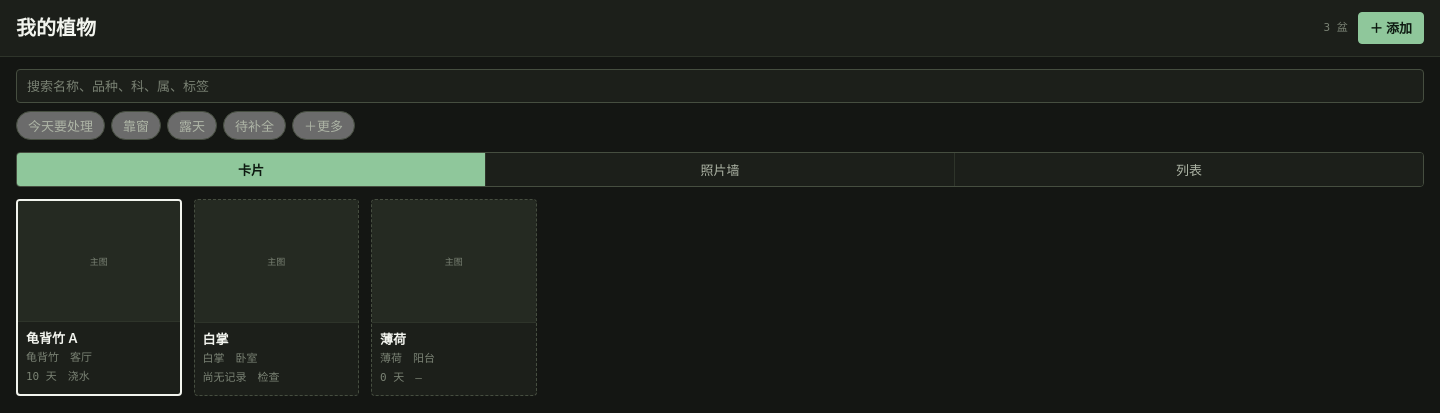
批量选择只在列表模式出现 › 勾选后显示已选数量
The image size is (1440, 413).
Click the tab "列表". click: (1189, 170)
box: [955,153,1423,186]
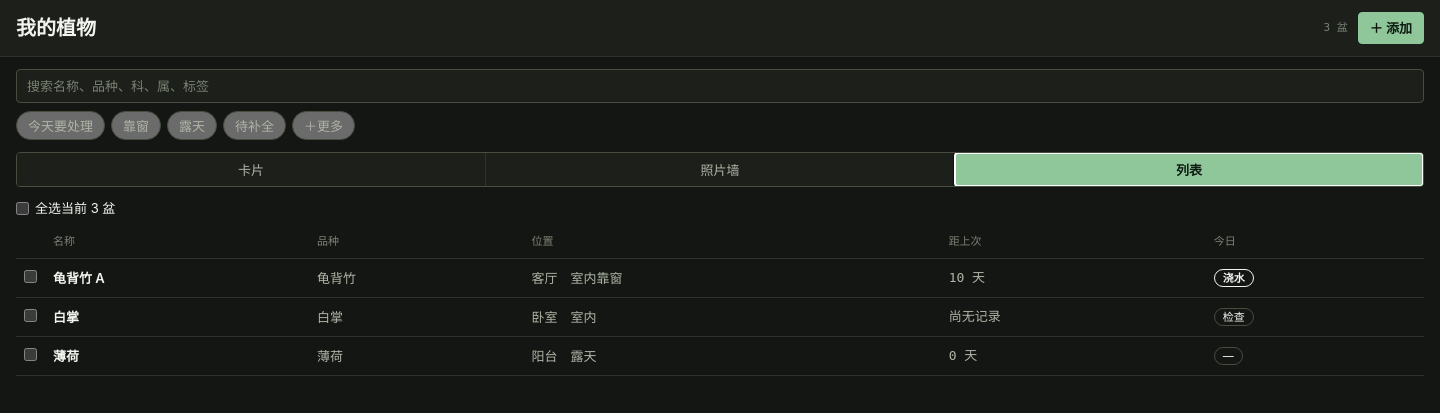
Click the checkbox named "选择 龟背竹 A". click: (30, 276)
box: [24,270,37,282]
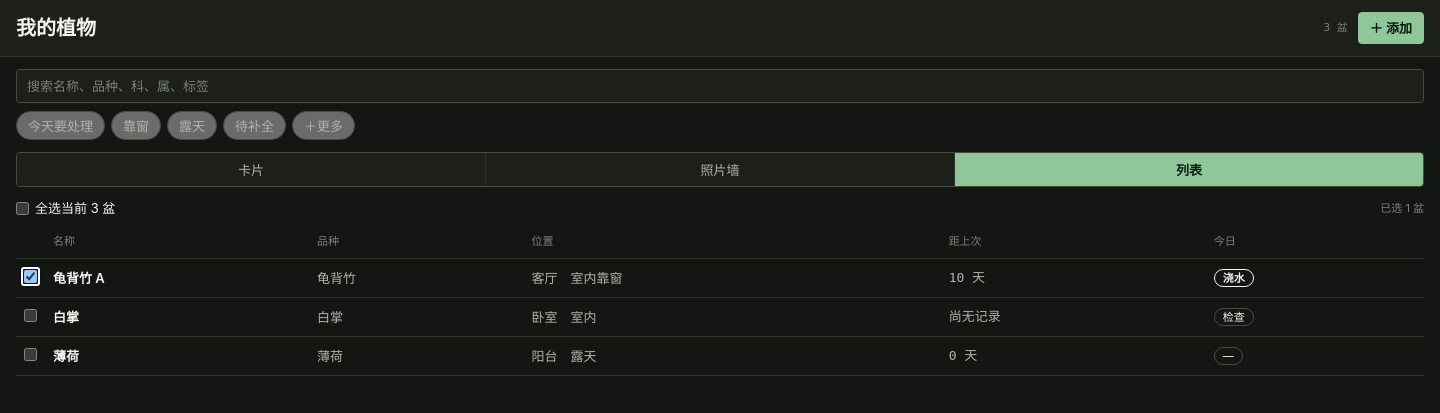
Now the text "已选 1 盆" is shown, box [1380,200,1424,216]
